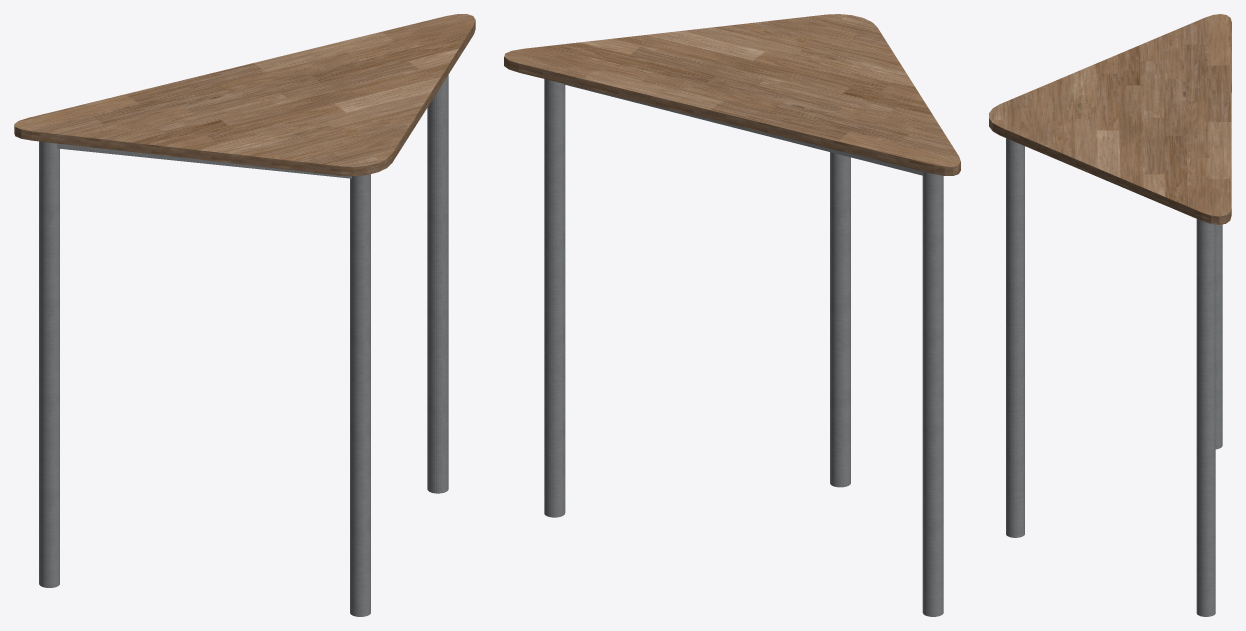
The model's file is dreiecksTisch.glb.
3 views of the same model, side by side, from view 1: azimuth 30°, elevation 25°; view 2: azimuth 150°, elevation 25°; view 3: azimuth 270°, elevation 25° (orthographic). The views are drawn at different scales.
Visible parts, largest first — view 1: model; view 2: model; view 3: model.
Boxes of the visible parts, x1,y1,x2,y2 form: model: (14, 14, 475, 616); model: (504, 14, 960, 616); model: (989, 14, 1231, 616).
Size of the model in its own units: 1.89 by 1.82 by 0.9599.
Materials: 2 (2 with a texture image).
